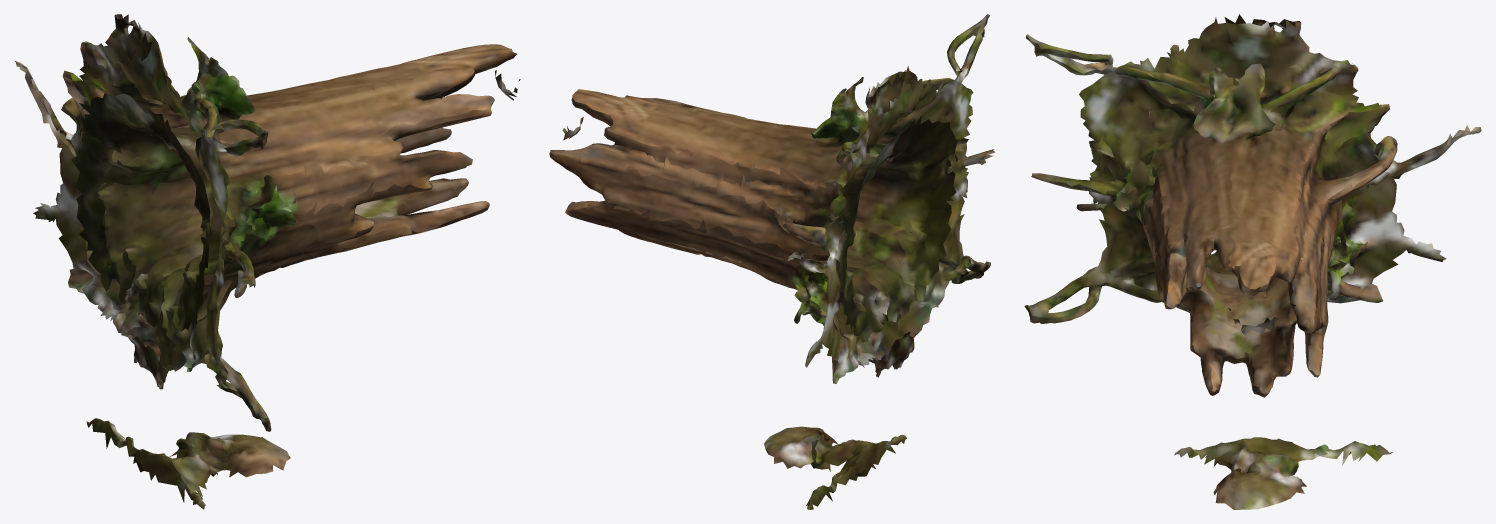
Rendered from F3D_04_LogBridge.fbx.
The picture shows the model from 3 angles, left to right: view 1: azimuth 30°, elevation 25°; view 2: azimuth 150°, elevation 25°; view 3: azimuth 270°, elevation 25°; orthographic projection. The views are drawn at different scales.
Parts seen in each view (by area): view 1: F3D_04_LogBridge; view 2: F3D_04_LogBridge; view 3: F3D_04_LogBridge.
Part boxes in pixels (bbox=[...]): F3D_04_LogBridge: bbox=[14, 14, 520, 509]; F3D_04_LogBridge: bbox=[549, 14, 995, 509]; F3D_04_LogBridge: bbox=[1024, 14, 1481, 509].
Size of the model in its own units: 0.8543 by 1 by 0.9522.
Materials: 1 (1 with a texture image).
